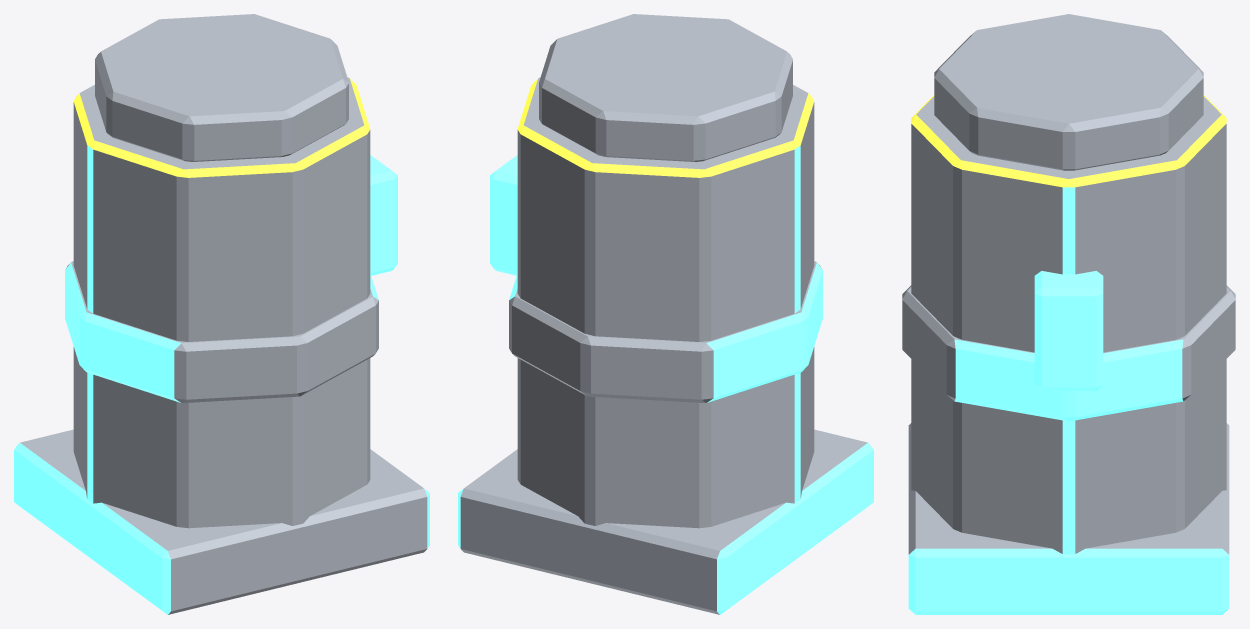
File: Hangar_FuelCell.fbx
3 renders of one model, left to right at view 1: azimuth 30°, elevation 25°; view 2: azimuth 150°, elevation 25°; view 3: azimuth 270°, elevation 25°, orthographic. The views are drawn at different scales.
Parts seen in each view (by area): view 1: Hangar_FuelCell; view 2: Hangar_FuelCell; view 3: Hangar_FuelCell.
Boxes of the visible parts, x1,y1,x2,y2 form: Hangar_FuelCell: (14,14,429,614); Hangar_FuelCell: (458,14,873,614); Hangar_FuelCell: (902,14,1235,614).
Size of the model in its own units: 0.7893 by 1.16 by 0.7285.
